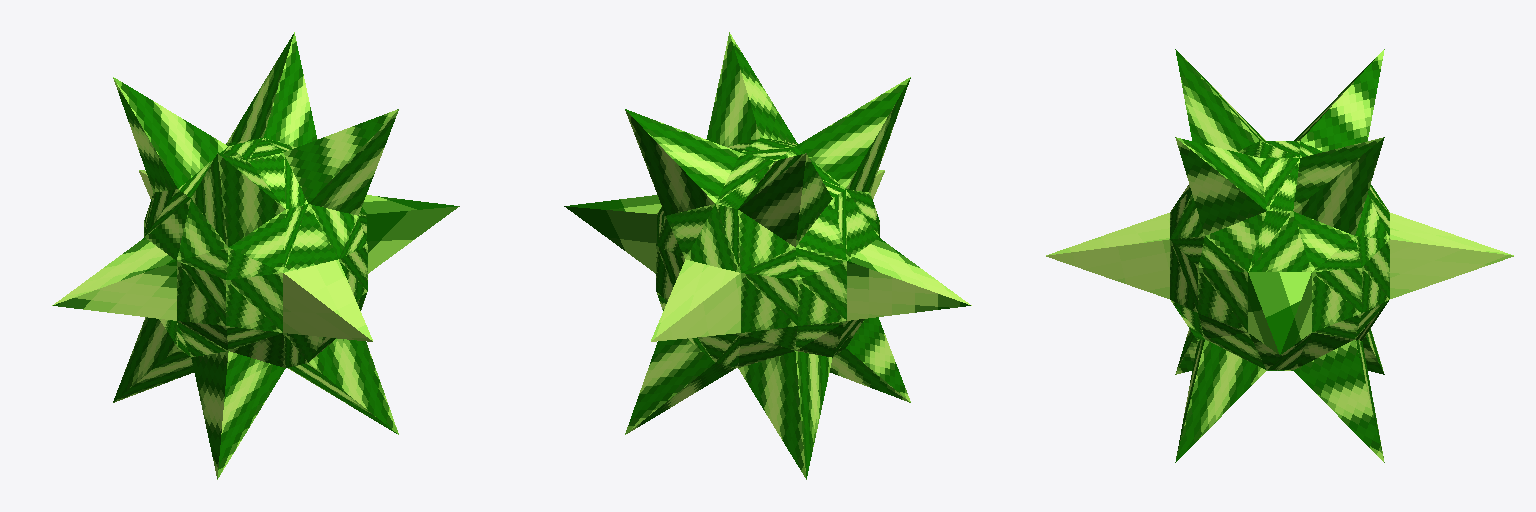
3 views of the same model, side by side, from view 1: azimuth 30°, elevation 25°; view 2: azimuth 150°, elevation 25°; view 3: azimuth 270°, elevation 25° (orthographic).
Visible parts, largest first — view 1: default; view 2: default; view 3: default.
Boxes of the visible parts, <box> form: default: <box>52,32,459,479</box>; default: <box>564,32,971,479</box>; default: <box>1046,49,1513,462</box>.
Bounding box in the file's own units: 19.4 × 14.85 × 19.4.
Materials: 1 (1 with a texture image).